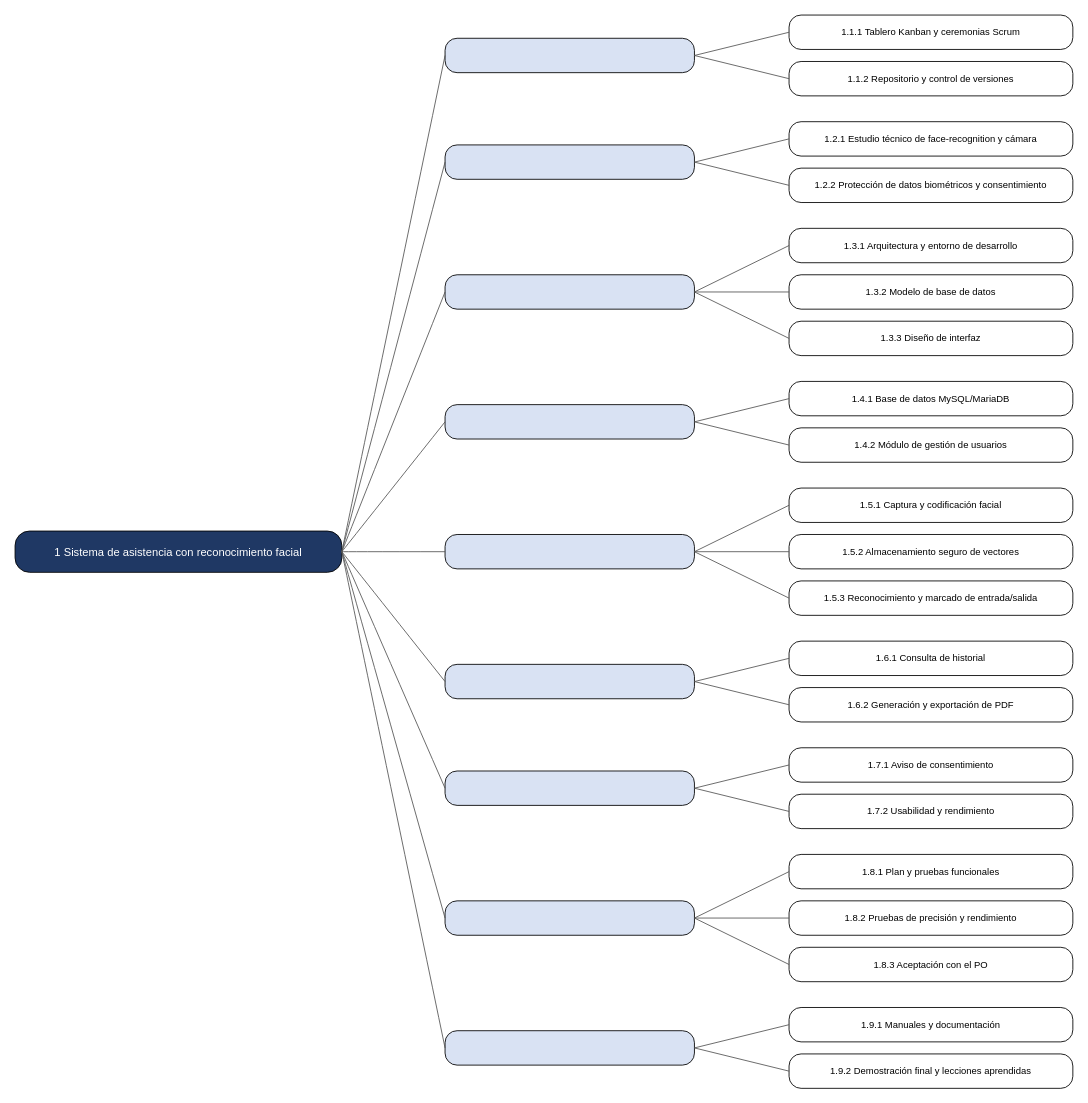
The diagram is 1088 pixels wide and 1103 high, and some of its shapes have lost their labels. The box of each missing label's shape, as (x1, y1, x2, y2) in pixels:
1.1 Gestión del proyecto: (444, 37, 694, 73)
1.2 Investigación: (444, 144, 694, 179)
1.3 Diseño: (444, 274, 694, 309)
1.4 Sprint 1 · Usuarios y BD (HU-01): (444, 404, 694, 439)
1.5 Sprint 2 · Reconocimiento facial (HU-02): (444, 534, 694, 569)
1.6 Sprint 3 · Reportes PDF (HU-03): (444, 663, 694, 699)
1.7 Sprint 4 · Consentimiento y ajustes (HU-04): (444, 770, 694, 805)
1.8 Pruebas: (444, 900, 694, 935)
1.9 Cierre y divulgación: (444, 1030, 694, 1065)
